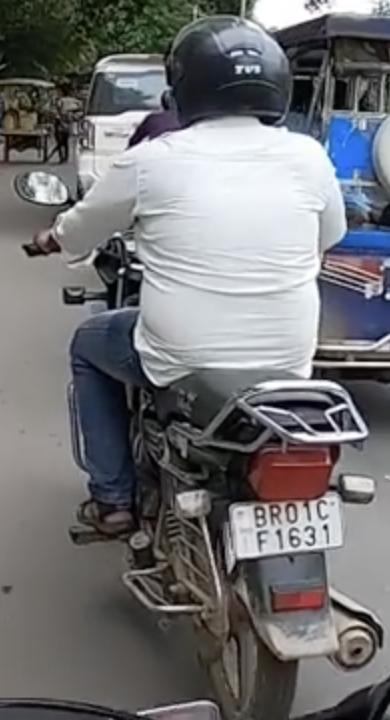motor: (20, 181, 388, 712)
number: (229, 494, 347, 561)
with helmet: (161, 16, 292, 126)
